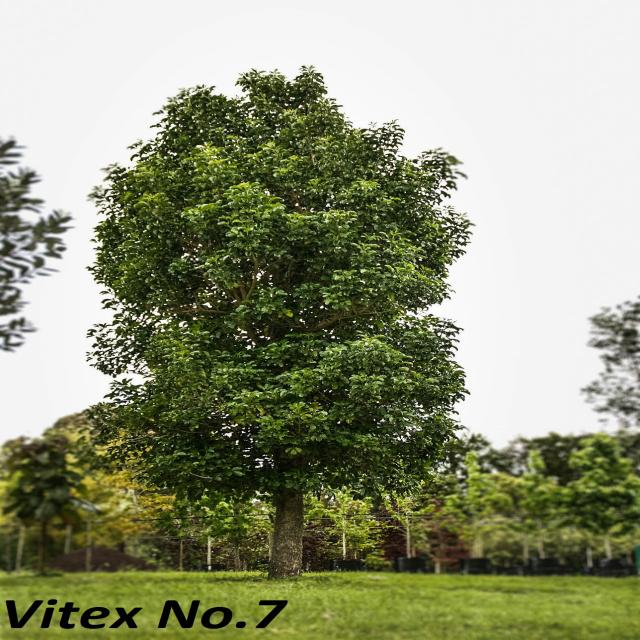Vitex lucens: (74, 63, 473, 581)
